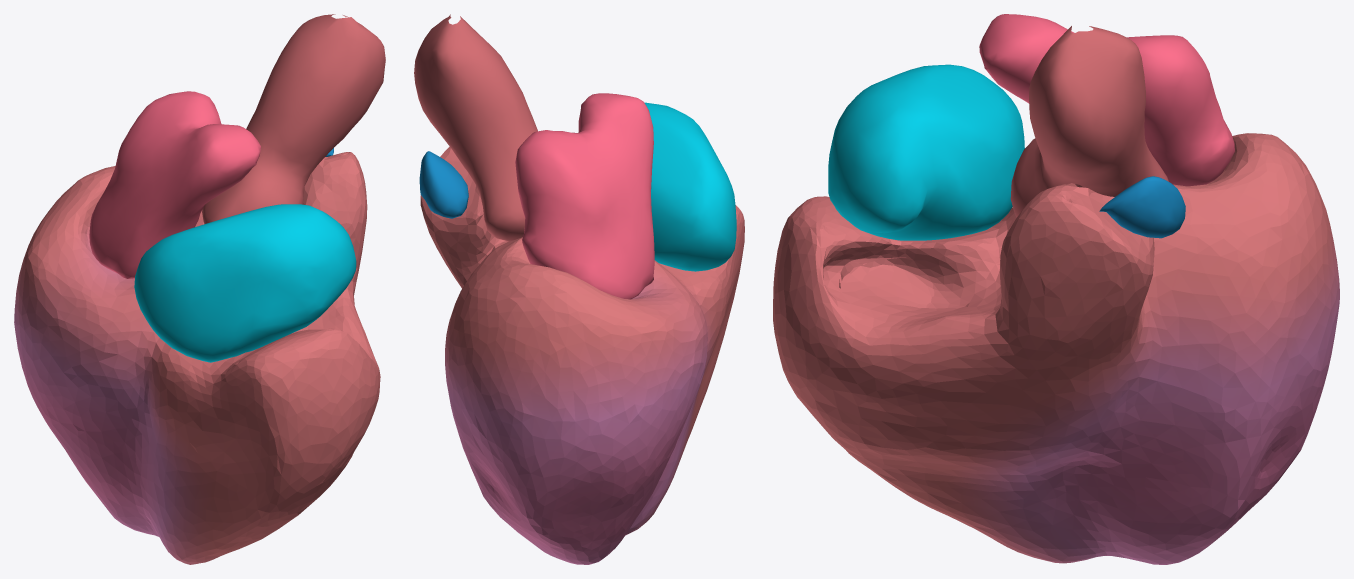
The model's file is frame_49.glb.
3 views of the same model, side by side, from view 1: azimuth 30°, elevation 25°; view 2: azimuth 150°, elevation 25°; view 3: azimuth 270°, elevation 25° (orthographic). The views are drawn at different scales.
Parts seen in each view (by area): view 1: Renderer Node; view 2: Renderer Node; view 3: Renderer Node.
Boxes of the visible parts, bbox=[...] form: Renderer Node: bbox=[14, 14, 385, 564]; Renderer Node: bbox=[414, 14, 744, 564]; Renderer Node: bbox=[773, 14, 1339, 564].
Bounding box in the file's own units: 103 × 158 × 128.
